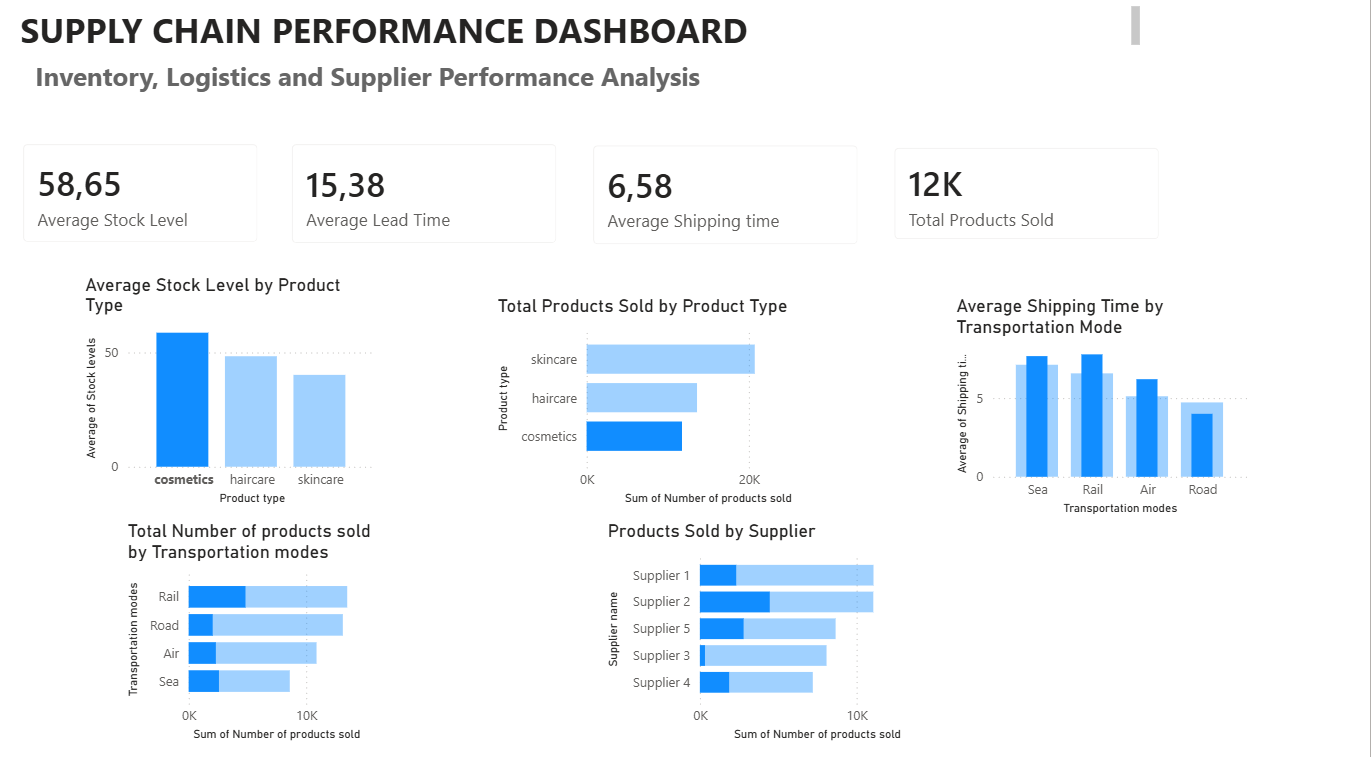

This screenshot's page, from the dashboard's own definition file:
{"tool":"powerbi","page":{"name":"Supply Chain Dashboard","canvas":[1280,720],"ordinal":0},"visuals":[{"type":"cardVisual","fields":{"Data":["Avg(supply_chain_data.Stock levels)"]},"box":[9.3,130.2,252.3,125.6],"z":0},{"type":"cardVisual","fields":{"Data":["Avg(supply_chain_data.Lead times)"]},"box":[259.3,130.2,280.2,126.7],"z":1},{"type":"cardVisual","fields":{"Data":["Avg(supply_chain_data.Shipping times)"]},"box":[539.5,131.4,280.2,126.7],"z":2},{"type":"cardVisual","fields":{"Data":["Sum(supply_chain_data.Number of products sold)"]},"box":[819.8,133.7,280.2,119.8],"z":3},{"type":"clusteredColumnChart","title":"Average Stock Level by Product Type","fields":{"Y":["Avg(supply_chain_data.Stock levels)"],"Category":["supply_chain_data.Product type"]},"box":[79.1,267.4,280.2,219.8],"z":4},{"type":"clusteredBarChart","title":"Total Products Sold by Product Type","fields":{"Y":["Sum(supply_chain_data.Number of products sold)"],"Category":["supply_chain_data.Product type"]},"box":[462.8,287.2,329.1,200],"z":5},{"type":"clusteredColumnChart","title":"Average Shipping Time by Transportation Mode","fields":{"Y":["Avg(supply_chain_data.Shipping times)"],"Category":["supply_chain_data.Transportation modes"]},"box":[889.5,287.2,280.2,209.3],"z":6},{"type":"clusteredBarChart","title":"Total Number of products sold by Transportation modes","fields":{"Category":["supply_chain_data.Transportation modes"],"Y":["Sum(supply_chain_data.Number of products sold)"]},"box":[118.6,496.5,240.7,210.5],"z":7},{"type":"clusteredBarChart","title":"Products Sold by Supplier","fields":{"Category":["supply_chain_data.Supplier name"],"Y":["Sum(supply_chain_data.Number of products sold)"]},"box":[565.1,496.5,324.4,210.5],"z":8},{"type":"textbox","box":[18.6,14,1051.2,48.8],"z":9},{"type":"textbox","box":[32.6,62.8,825.6,50],"z":10}]}

Visuals, with their boxes in screenshot pixels (x1, y1, x2, y2), scaled from the page's 1280x720 canvas onto the 1372x757 screenshot:
cardVisual - Avg(supply_chain_data.Stock levels): x1=10, y1=137, x2=280, y2=269
cardVisual - Avg(supply_chain_data.Lead times): x1=278, y1=137, x2=578, y2=270
cardVisual - Avg(supply_chain_data.Shipping times): x1=578, y1=138, x2=879, y2=271
cardVisual - Sum(supply_chain_data.Number of products sold): x1=879, y1=141, x2=1179, y2=267
"Average Stock Level by Product Type" clusteredColumnChart: x1=85, y1=281, x2=385, y2=512
"Total Products Sold by Product Type" clusteredBarChart: x1=496, y1=302, x2=849, y2=512
"Average Shipping Time by Transportation Mode" clusteredColumnChart: x1=953, y1=302, x2=1254, y2=522
"Total Number of products sold by Transportation modes" clusteredBarChart: x1=127, y1=522, x2=385, y2=743
"Products Sold by Supplier" clusteredBarChart: x1=606, y1=522, x2=953, y2=743
textbox: x1=20, y1=15, x2=1147, y2=66
textbox: x1=35, y1=66, x2=920, y2=119
